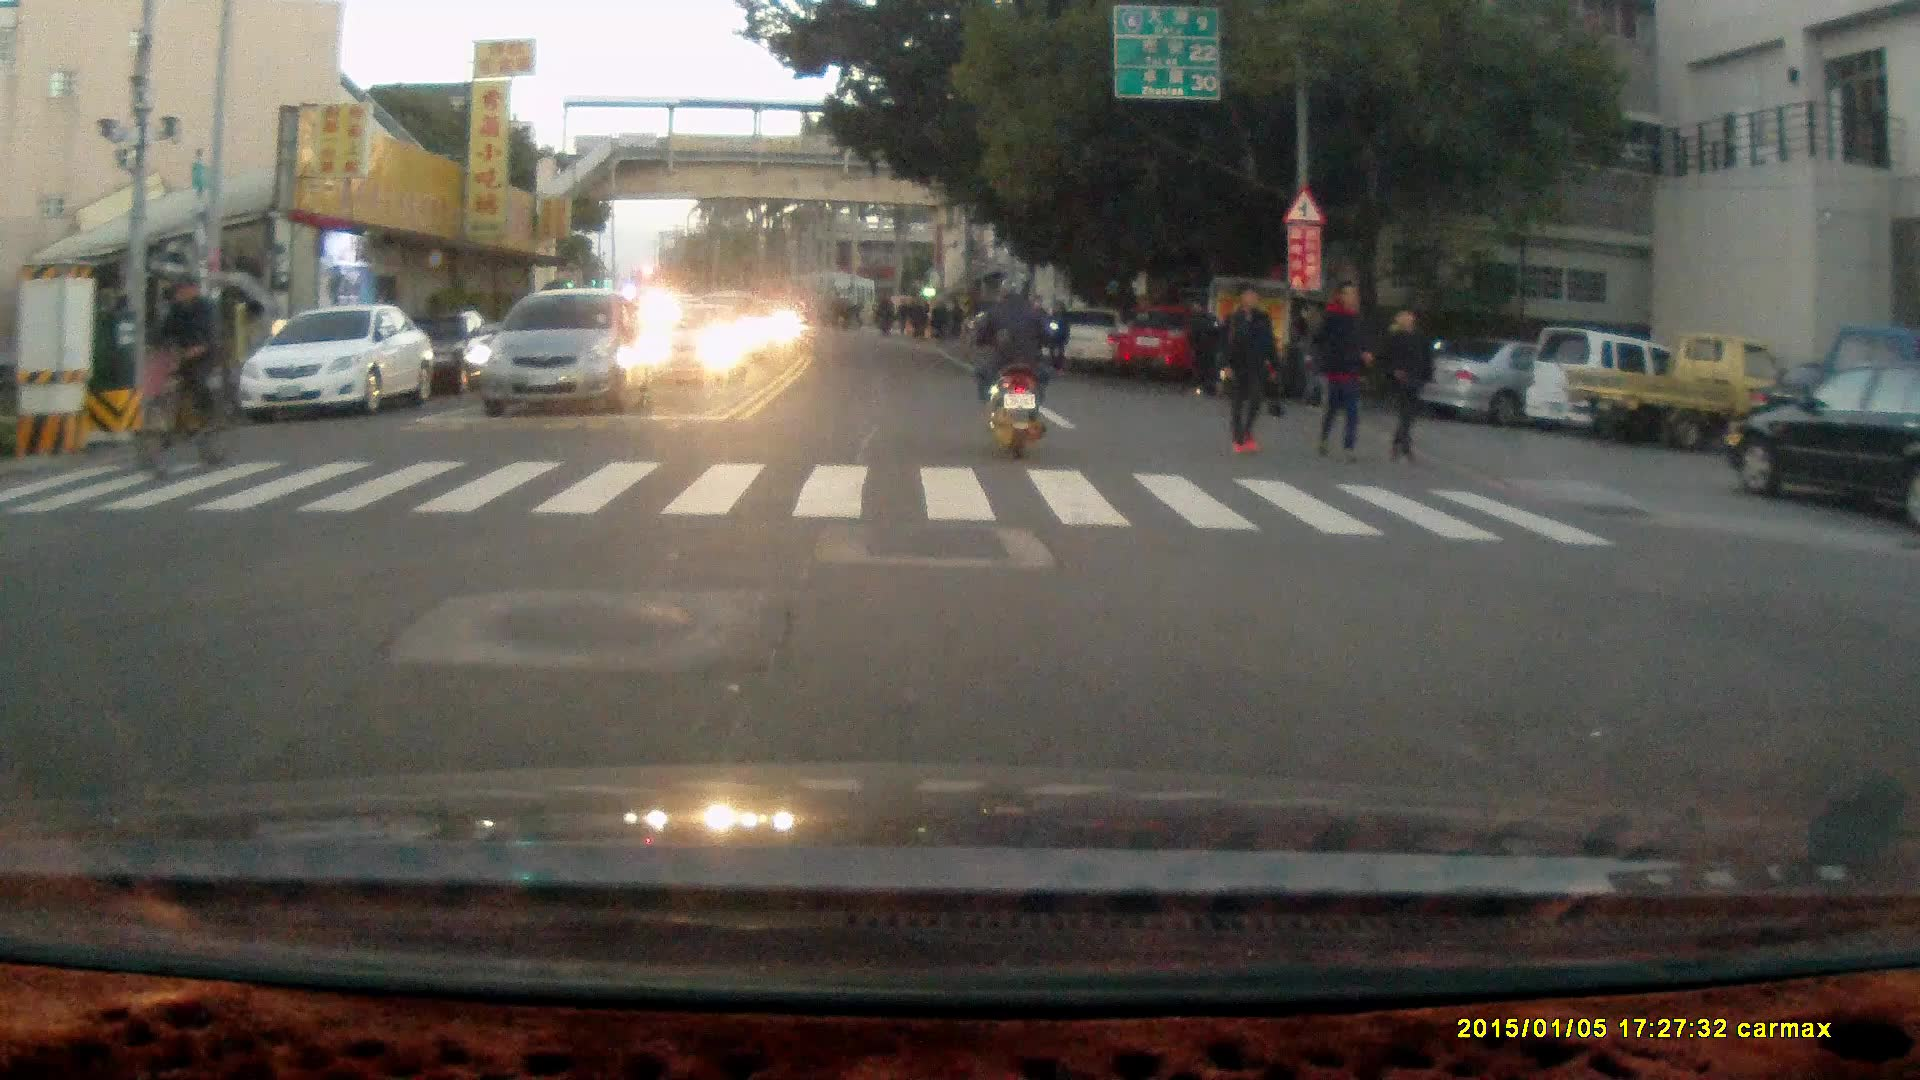pedestrian: (1309, 277, 1371, 469), (1214, 282, 1280, 459), (1379, 305, 1435, 468), (1184, 297, 1221, 402), (1044, 295, 1072, 377)
rider: (133, 269, 241, 482), (964, 277, 1054, 466)
vehicle: (1724, 362, 1920, 521), (1559, 330, 1797, 448), (469, 287, 652, 415), (238, 301, 433, 420), (1412, 335, 1635, 419), (388, 304, 513, 402), (643, 304, 746, 389), (1108, 303, 1209, 380)
